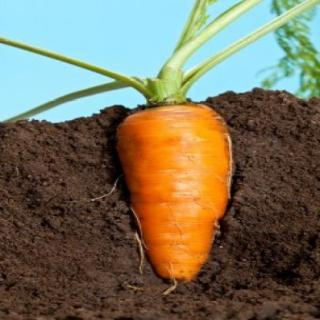Wortel: (117, 106, 234, 285)
